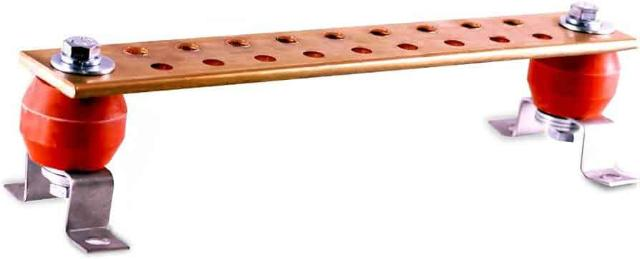busbar: (5, 2, 638, 253)
